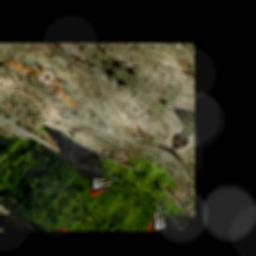Woodpecker: (21, 110, 132, 203)
